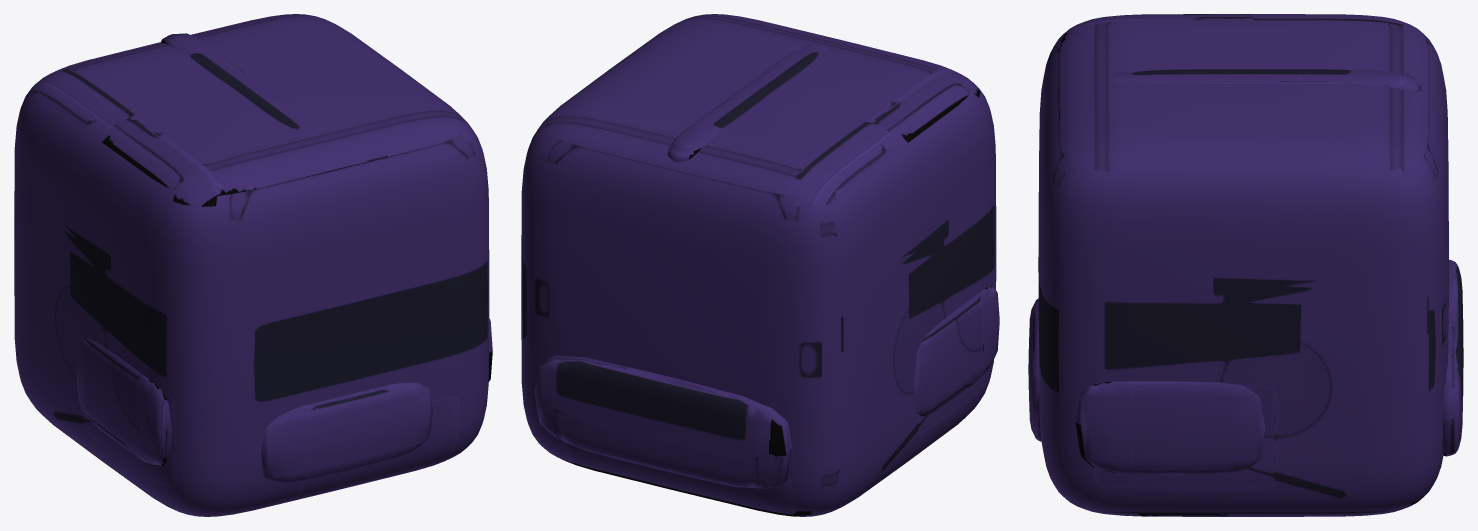
Rendered from Estela_Casco.fbx.
3 renders of one model, left to right at view 1: azimuth 30°, elevation 25°; view 2: azimuth 150°, elevation 25°; view 3: azimuth 270°, elevation 25°, orthographic. The views are drawn at different scales.
Parts seen in each view (by area): view 1: Estela_Casco; view 2: Estela_Casco; view 3: Estela_Casco.
Part boxes in pixels (x1,y1,x2,y2): Estela_Casco: [14, 14, 492, 516]; Estela_Casco: [521, 14, 999, 516]; Estela_Casco: [1028, 14, 1463, 516].
Bounding box in the file's own units: 1.34 × 1.34 × 1.39.
